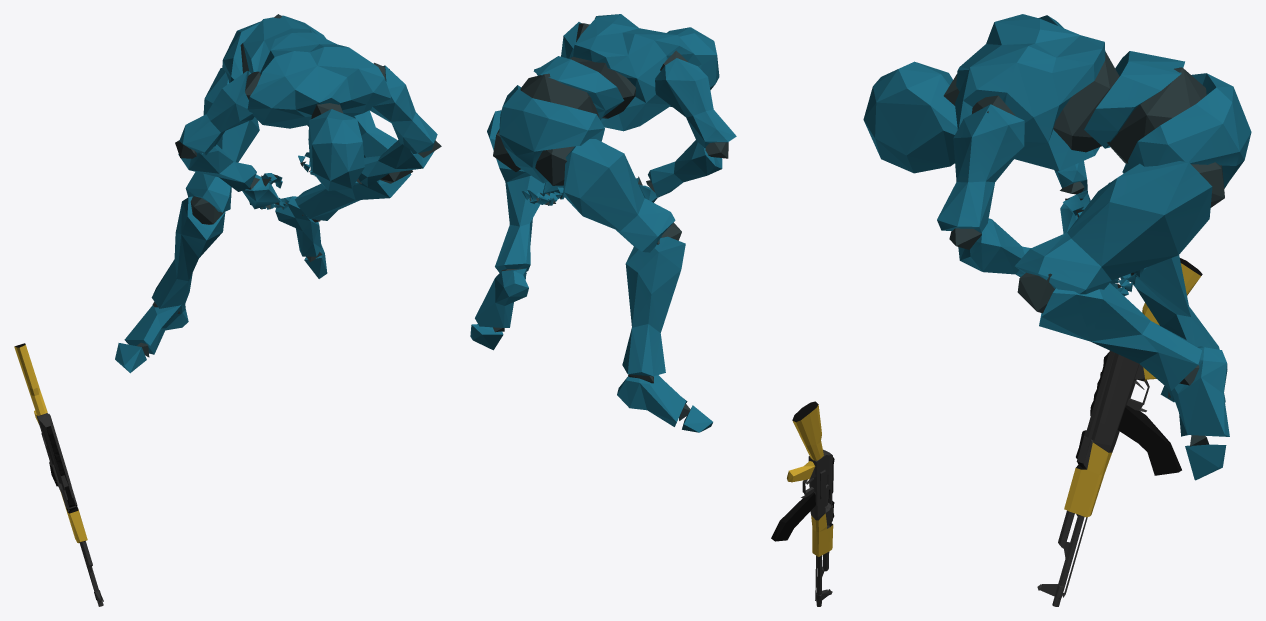
The model's file is EnemyDying_000074.obj.
The picture shows the model from 3 angles, left to right: view 1: azimuth 30°, elevation 25°; view 2: azimuth 150°, elevation 25°; view 3: azimuth 270°, elevation 25°; orthographic projection. The views are drawn at different scales.
Parts seen in each view (by area): view 1: Alpha_Surface, AK-47_Cube, Alpha_Joints; view 2: Alpha_Surface, Alpha_Joints, AK-47_Cube; view 3: Alpha_Surface, AK-47_Cube, Alpha_Joints.
Part boxes in pixels (x1=…): Alpha_Surface: x1=115, y1=15, x2=437, y2=373; AK-47_Cube: x1=14, y1=343, x2=103, y2=606; Alpha_Joints: x1=137, y1=14, x2=441, y2=357; Alpha_Surface: x1=470, y1=14, x2=736, y2=432; Alpha_Joints: x1=493, y1=23, x2=728, y2=420; AK-47_Cube: x1=771, y1=401, x2=834, y2=606; Alpha_Surface: x1=863, y1=14, x2=1251, y2=480; AK-47_Cube: x1=1037, y1=258, x2=1202, y2=606; Alpha_Joints: x1=943, y1=51, x2=1224, y2=446.
Size of the model in its own units: 239 by 340 by 170.
